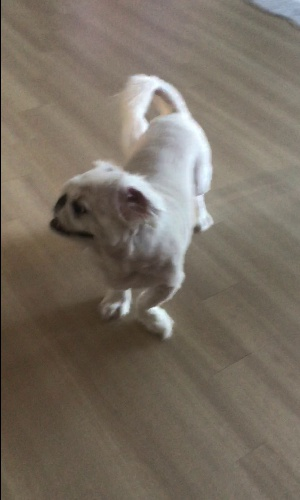ddubi: (44, 70, 218, 344)
